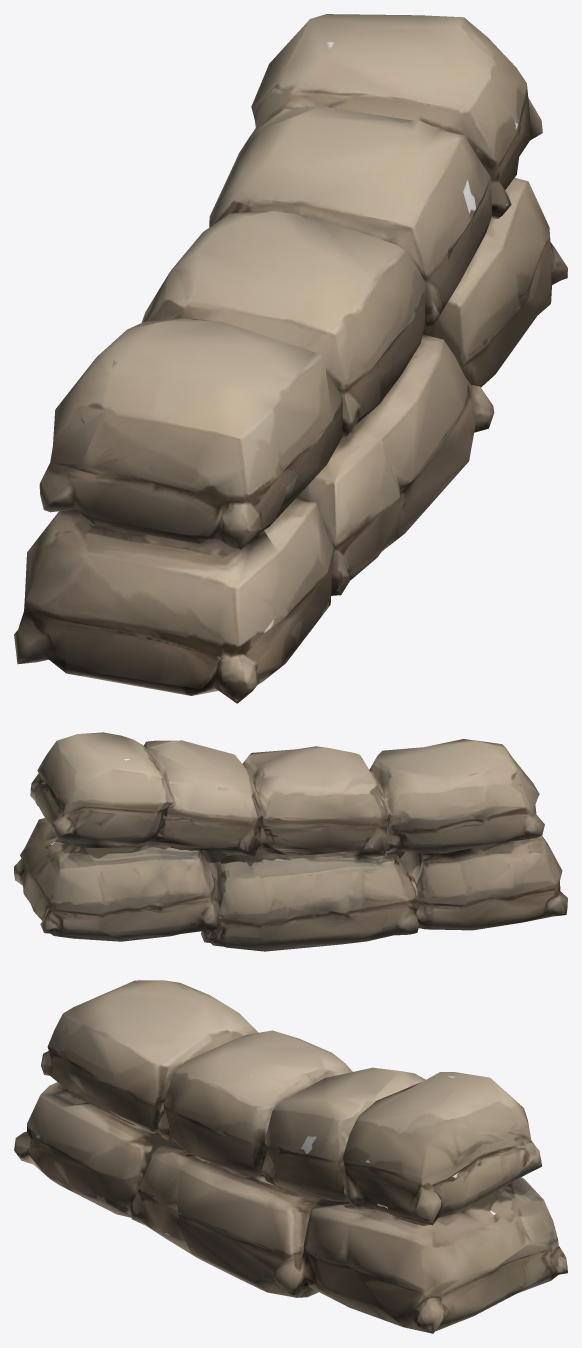
Rendered from dec_sandbags.glb.
The picture shows the model from 3 angles, top to bottom: view 1: azimuth 30°, elevation 25°; view 2: azimuth 150°, elevation 25°; view 3: azimuth 270°, elevation 25°; orthographic projection. The views are drawn at different scales.
Parts seen in each view (by area): view 1: BakeLow; view 2: BakeLow; view 3: BakeLow.
Part boxes in pixels (box(x1,y1,x2,y2)): BakeLow: box(14, 14, 567, 703); BakeLow: box(14, 732, 567, 951); BakeLow: box(14, 980, 567, 1333).
Bounding box in the file's own units: 0.8861 × 0.3843 × 0.8288.
1 material, 1 textured.
